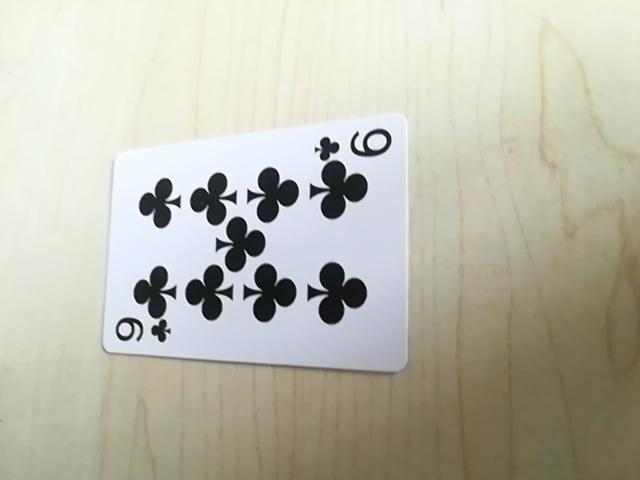mh 9: (314, 123, 400, 163), (110, 314, 174, 352)
